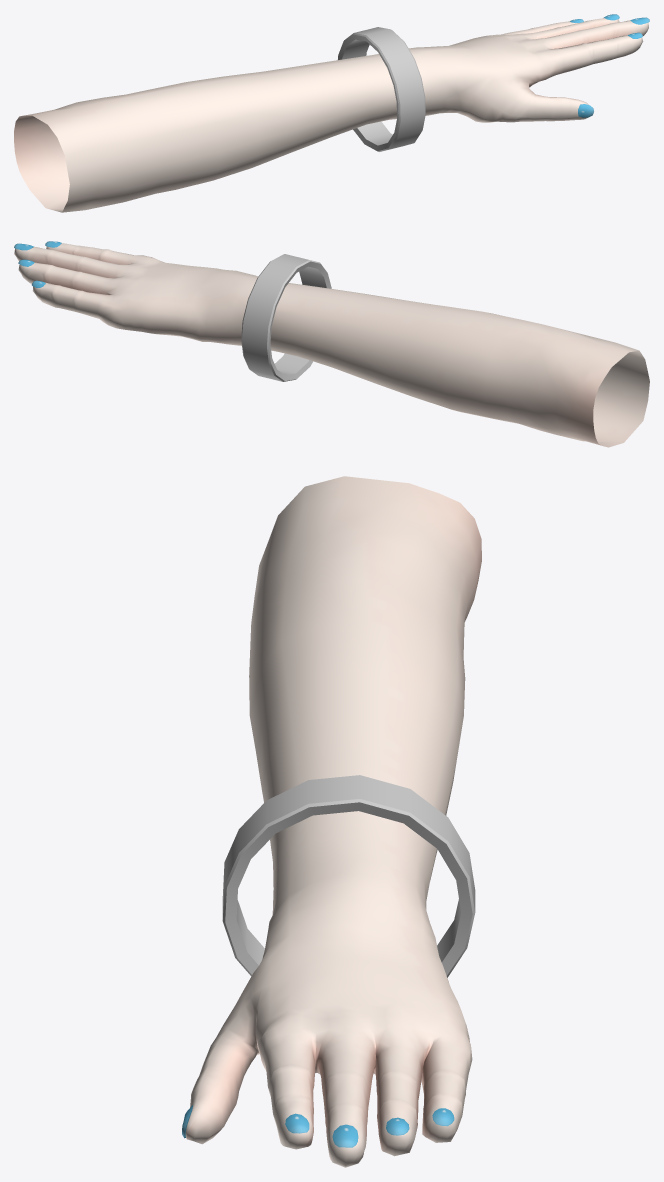
File: Koharu_brazo_1.obj
3 views of the same model, one above another, from view 1: azimuth 30°, elevation 25°; view 2: azimuth 150°, elevation 25°; view 3: azimuth 270°, elevation 25° (orthographic). The views are drawn at different scales.
Parts seen in each view (by area): view 1: Brazo_1_Body_큐브.003; view 2: Brazo_1_Body_큐브.003; view 3: Brazo_1_Body_큐브.003.
Part boxes in pixels (<box>): Brazo_1_Body_큐브.003: <box>14,14,649,212</box>; Brazo_1_Body_큐브.003: <box>14,241,649,447</box>; Brazo_1_Body_큐브.003: <box>182,476,481,1167</box>.
Bounding box in the file's own units: 0.2758 × 0.0482 × 0.0595.
